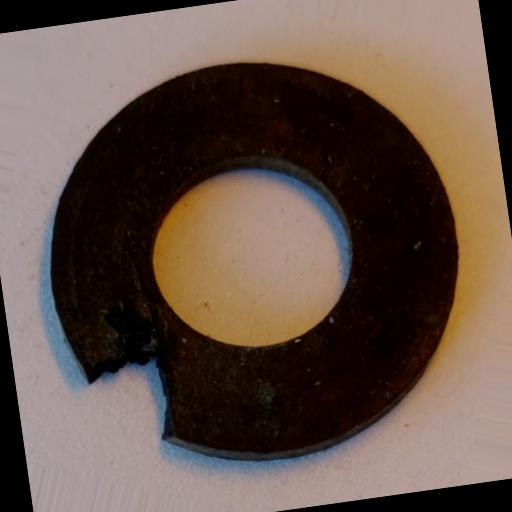defect: (74, 295, 190, 464)
